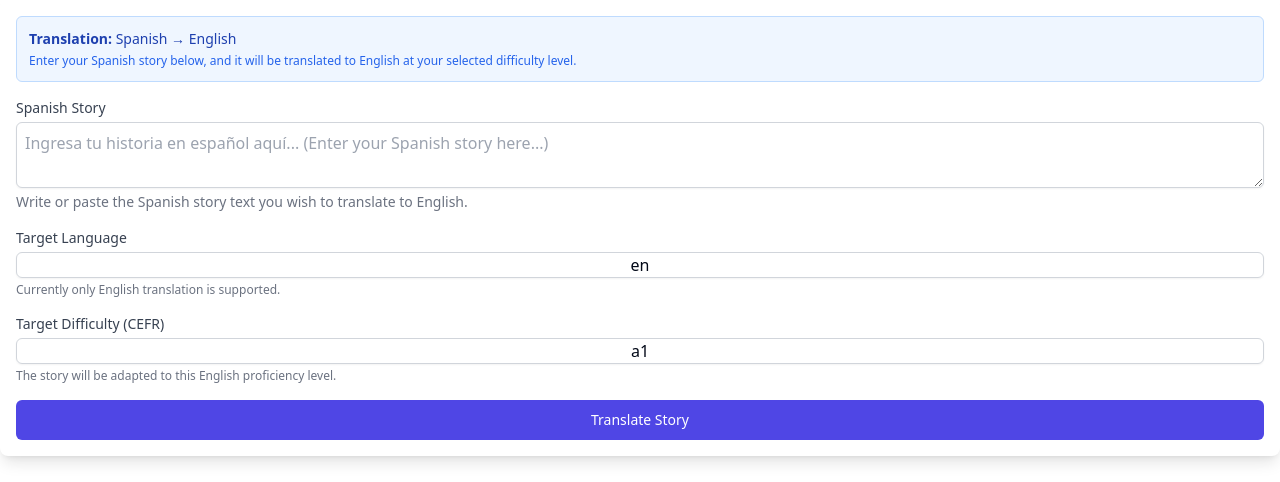
StoryUploadForm › displays enhanced difficulty options with descriptions
Click the dropdown named "Select difficulty level" at (640, 351), box [16,338,1264,364]
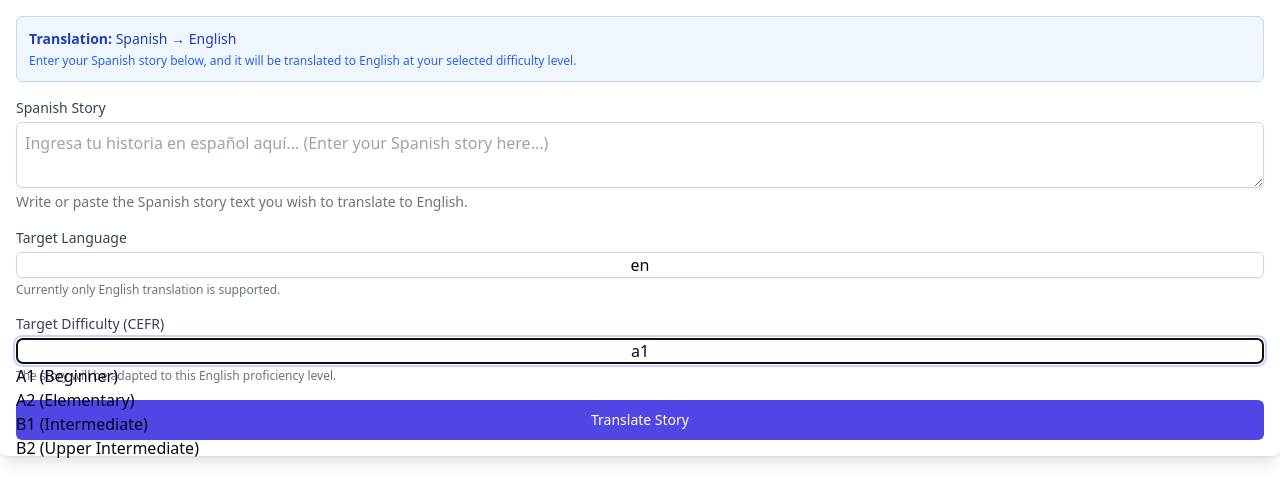
Now the option "A1 (Beginner)" is shown, box [16,365,118,387]
Now the option "A2 (Elementary)" is shown, box [16,389,135,411]
Now the option "B1 (Intermediate)" is shown, box [16,413,148,435]
